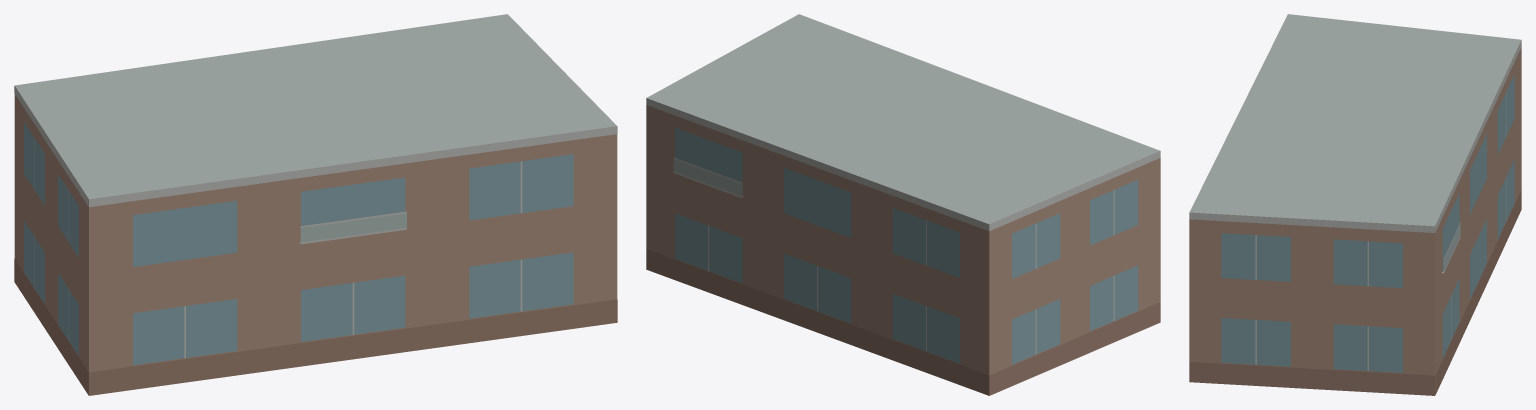
The model's file is survey-upis-32870324.glb.
3 views of the same model, side by side, from view 1: azimuth 30°, elevation 25°; view 2: azimuth 150°, elevation 25°; view 3: azimuth 270°, elevation 25° (orthographic). The views are drawn at different scales.
Visible parts, largest first — view 1: survey-upis-32870324.tmp; view 2: survey-upis-32870324.tmp; view 3: survey-upis-32870324.tmp.
Part boxes in pixels (x1,y1,x2,y2): survey-upis-32870324.tmp: (14,14,617,395); survey-upis-32870324.tmp: (646,14,1160,395); survey-upis-32870324.tmp: (1189,14,1521,395).
Size of the model in its own units: 16.39 by 6.1 by 10.84.
